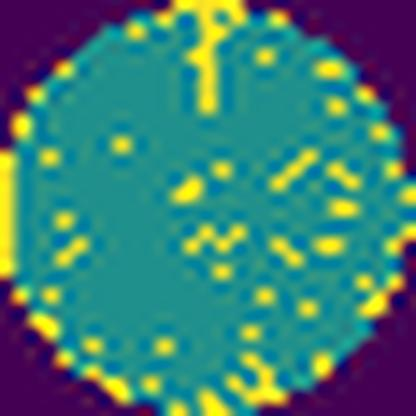Scratch: (159, 0, 252, 124)
